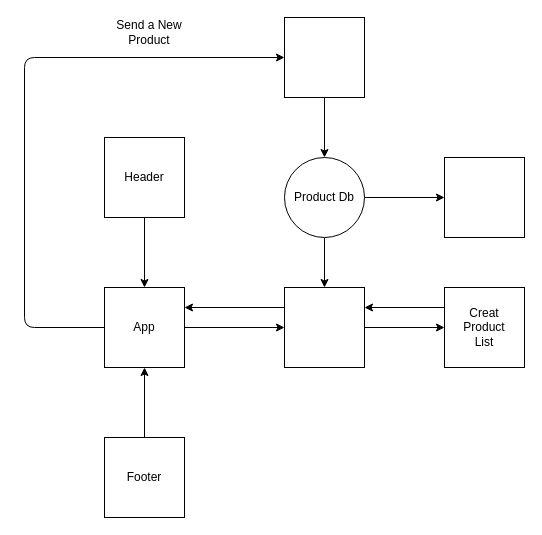
This 542x535 diagram has some shape labels left out. Each missing label, with the centre of its shape:
"All Products" goes at point (484, 197).
"Content" goes at point (324, 327).
"Product Factory" goes at point (324, 57).
